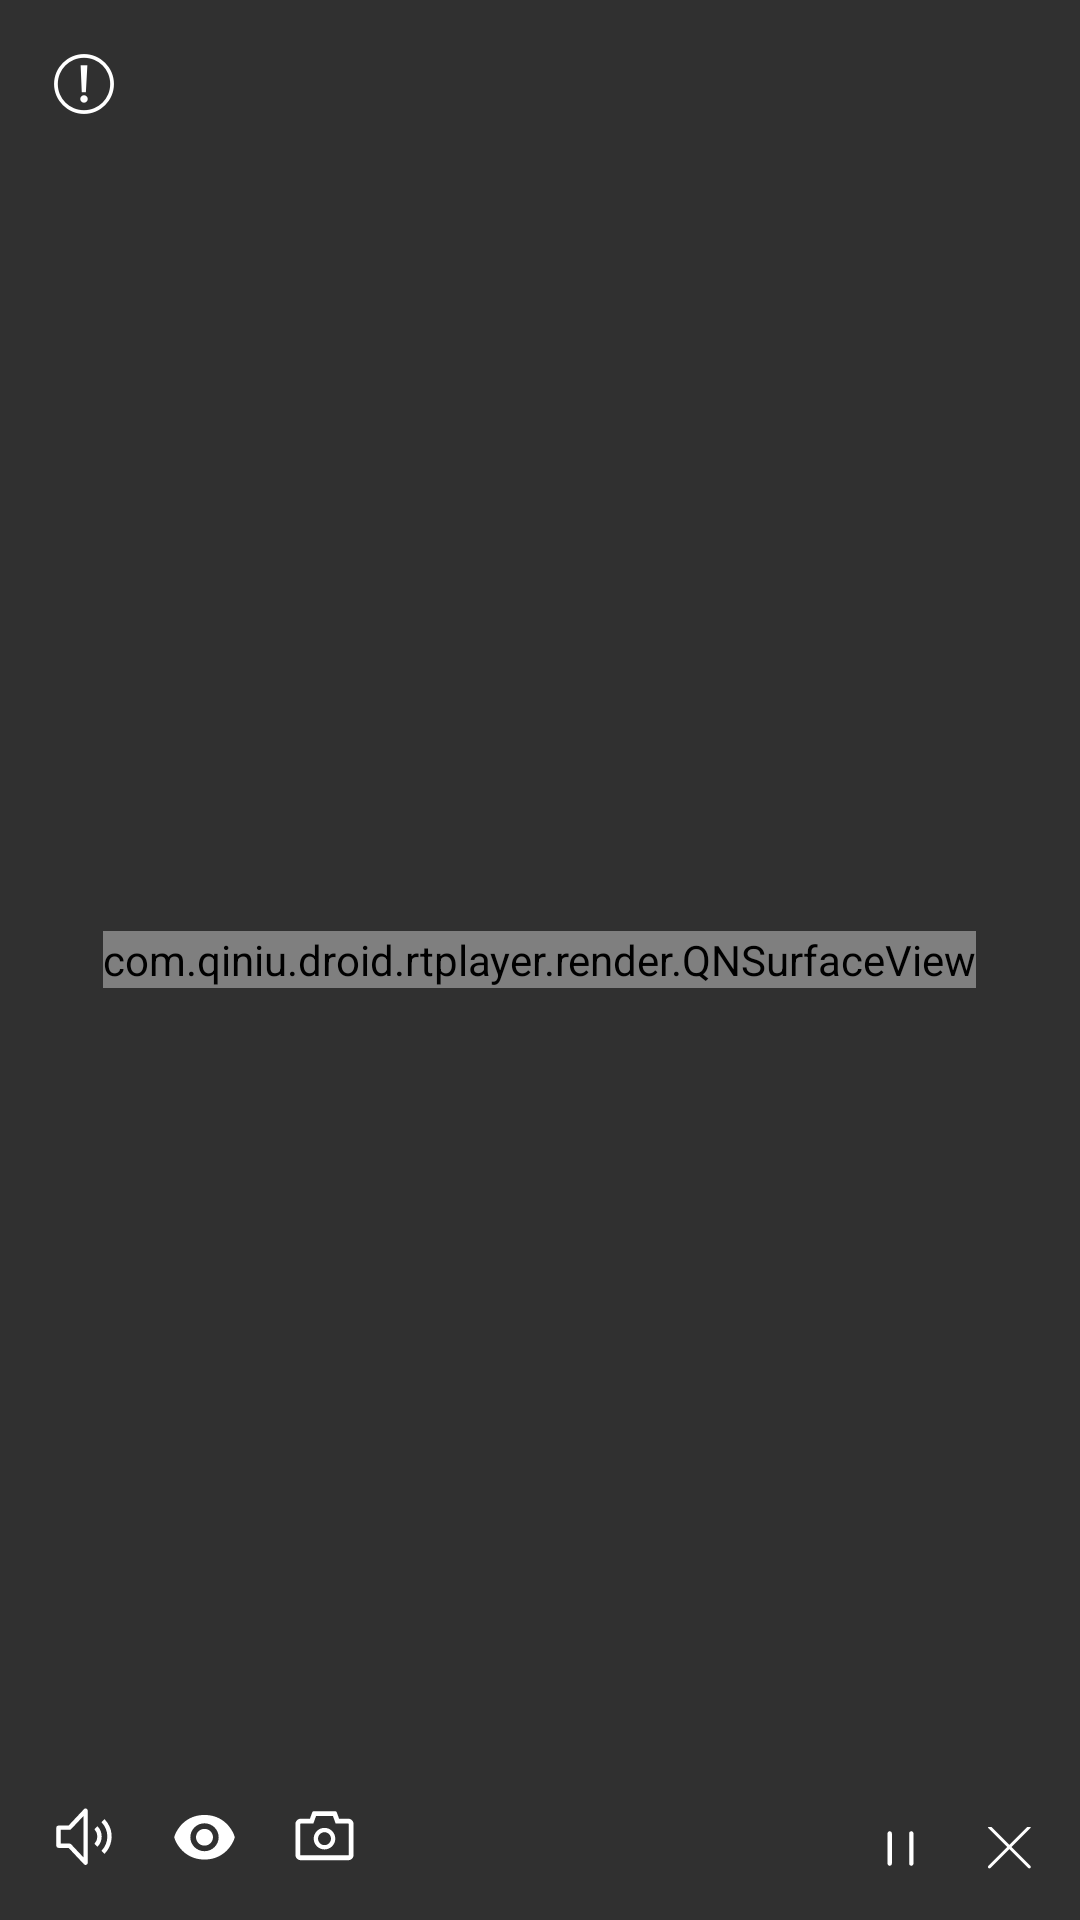

Icons on this 1080 x 1920 Android screen, each with the point to tap as [x,y]:
close: [1009,1848]
snapshot: [324,1836]
speaker: [84,1836]
video show: [204,1837]
